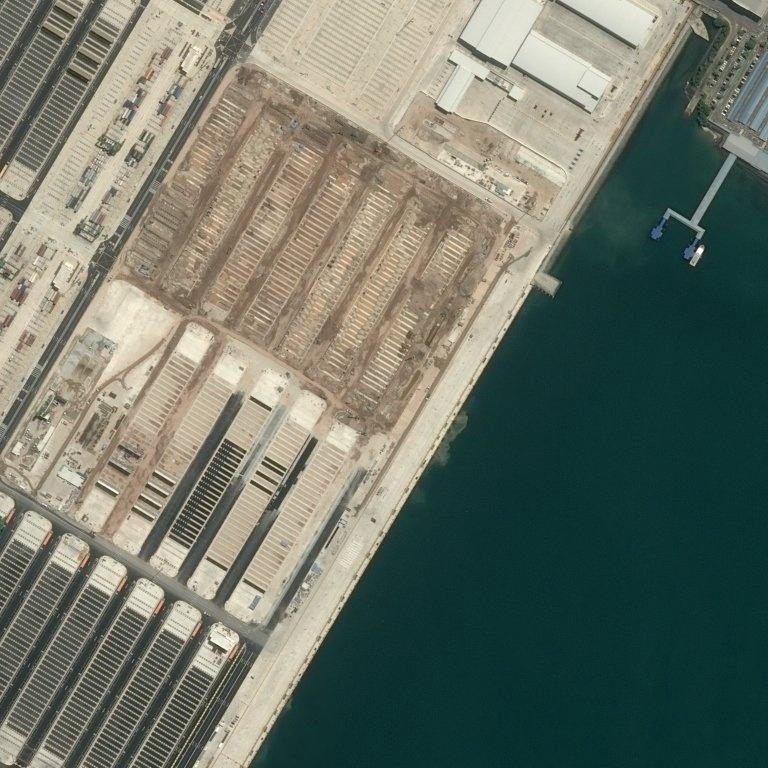ship: (689, 243, 708, 268)
